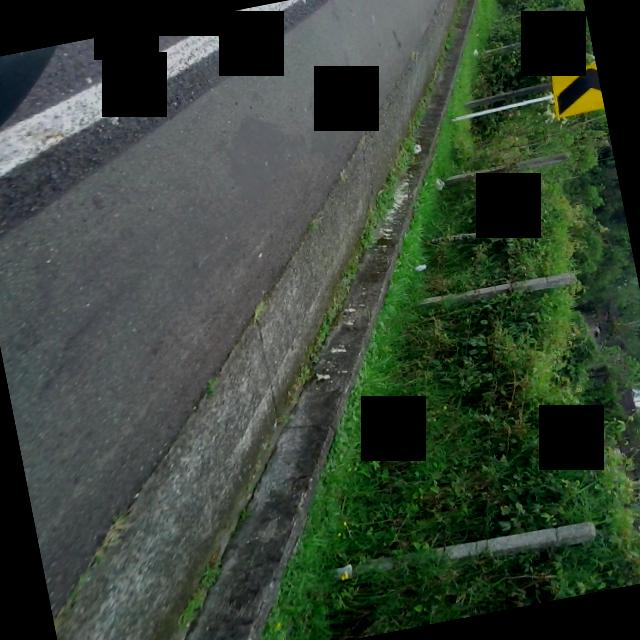DITCH: (0, 0, 615, 640), (0, 0, 611, 640), (0, 0, 602, 640)
